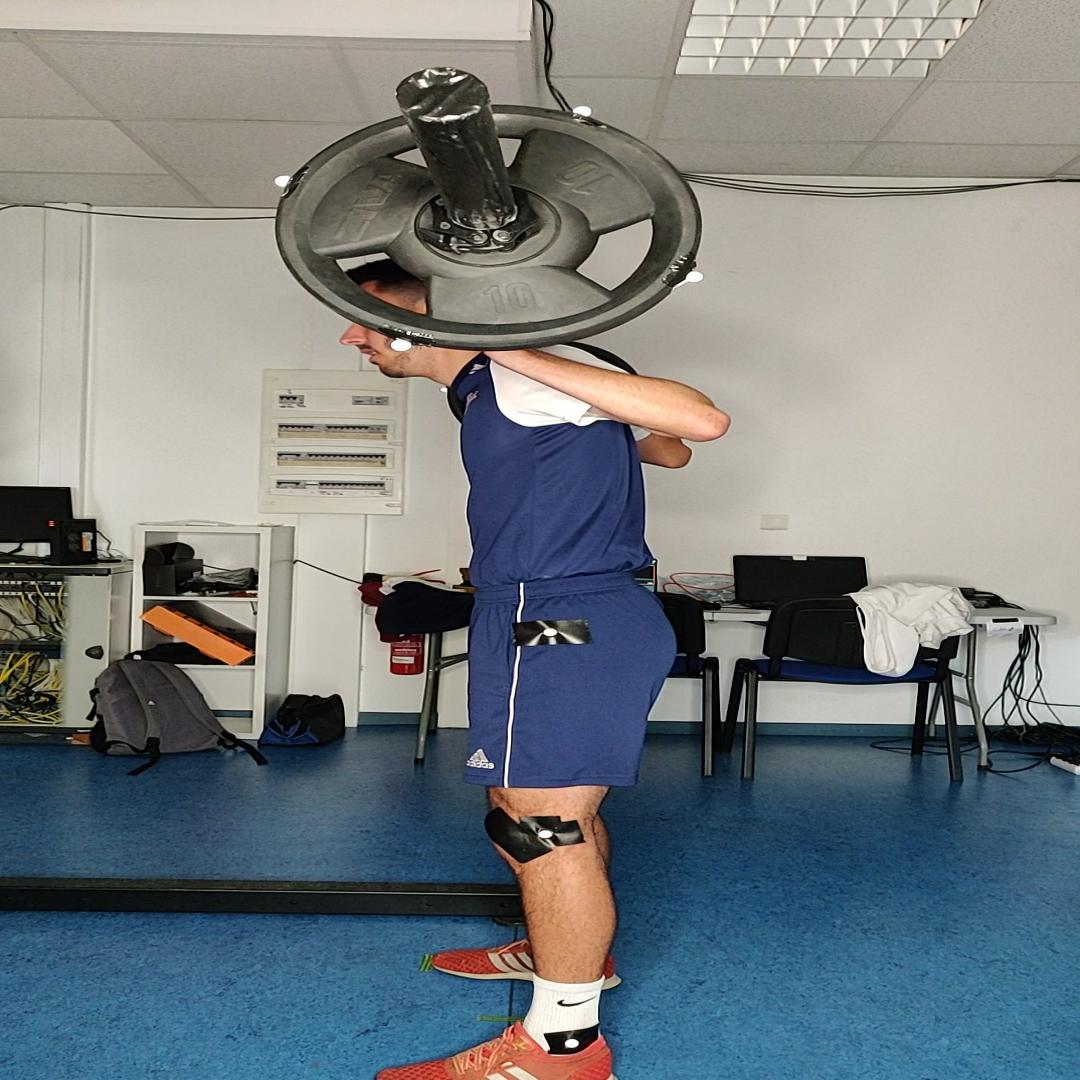Bar: (396, 66, 489, 122)
Barbell: (274, 104, 700, 351)
